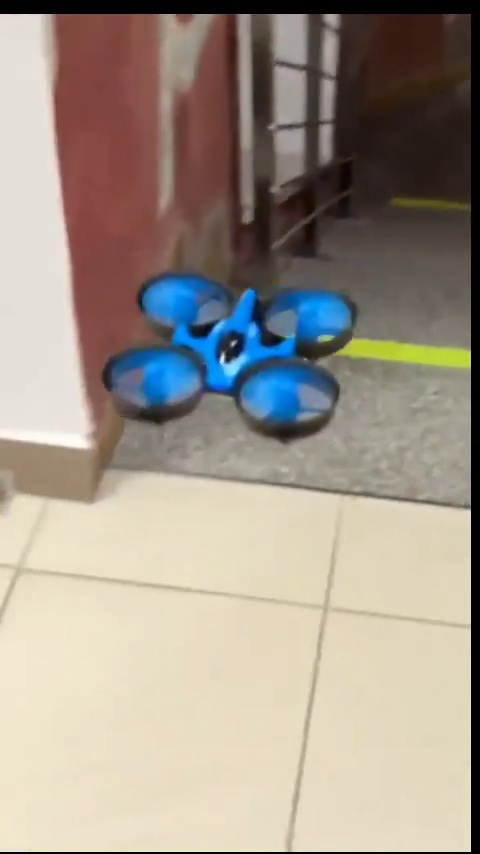drone: (108, 276, 362, 434)
